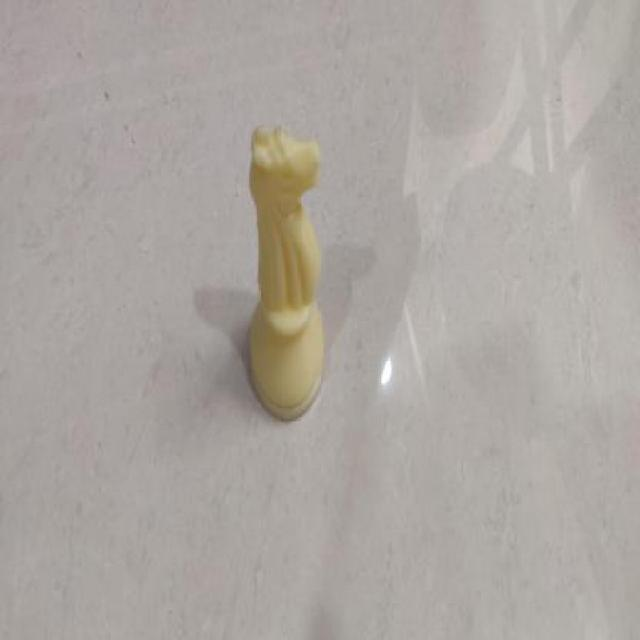white-knight: (245, 125, 326, 423)
